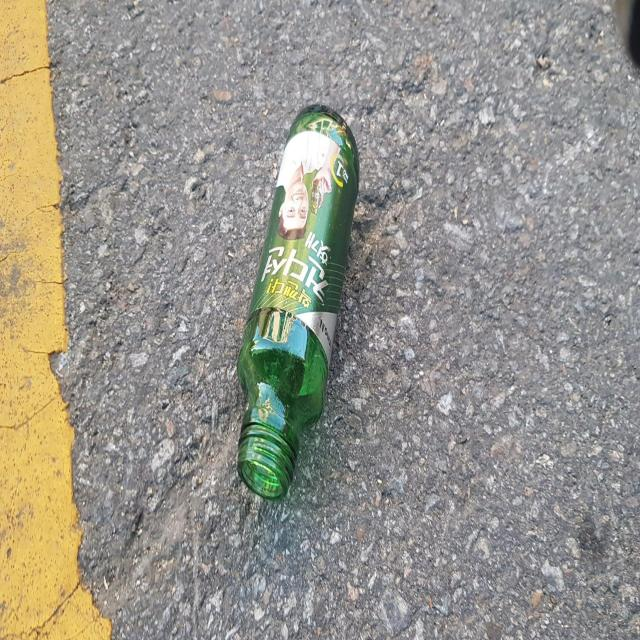glass: (237, 104, 359, 499)
